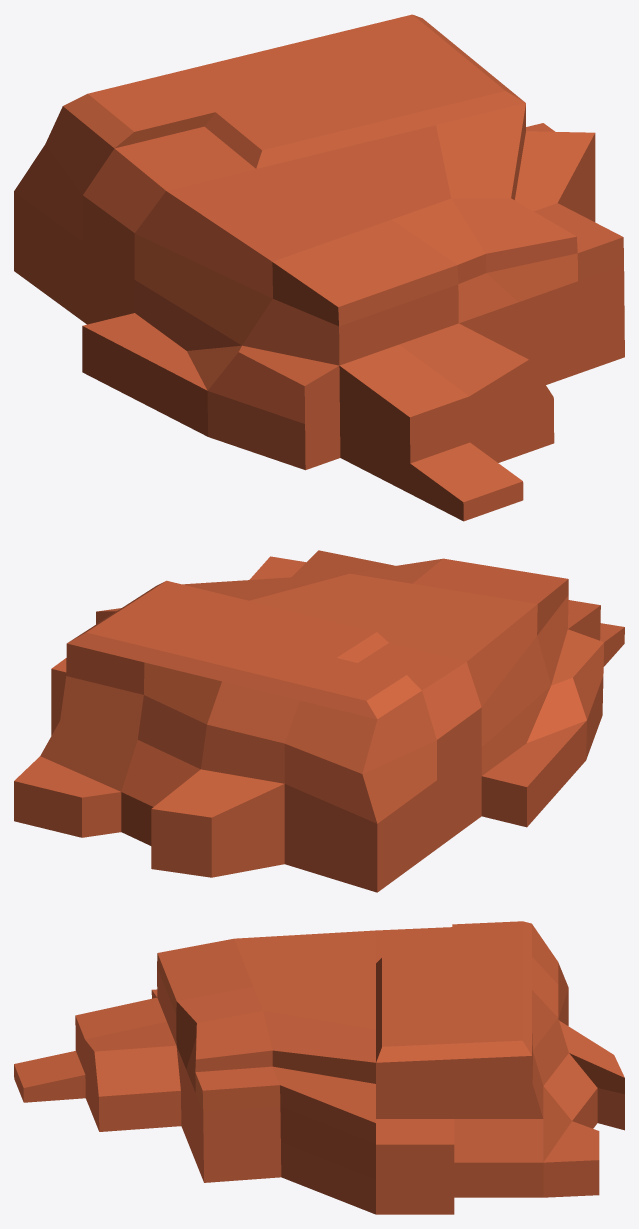
Rendered from rock1.fbx.
3 views of the same model, one above another, from view 1: azimuth 30°, elevation 25°; view 2: azimuth 150°, elevation 25°; view 3: azimuth 270°, elevation 25° (orthographic). The views are drawn at different scales.
Parts seen in each view (by area): view 1: Cube; view 2: Cube; view 3: Cube.
Part boxes in pixels (left/top/right/bottom): Cube: left=14, top=14, right=624, bottom=521; Cube: left=14, top=550, right=624, bottom=892; Cube: left=14, top=921, right=624, bottom=1214.
Bounding box in the file's own units: 562 × 202 × 781.
